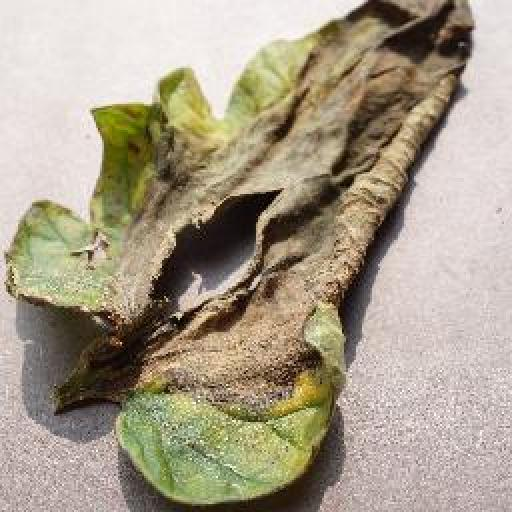disease_tomato: (3, 0, 476, 512)
